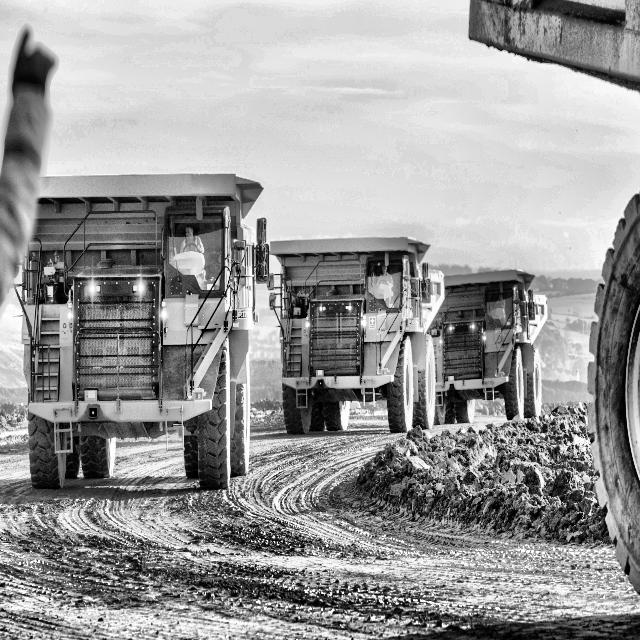dump_truck: (446, 0, 640, 633), (11, 144, 277, 520), (258, 217, 438, 458), (435, 216, 536, 438)
